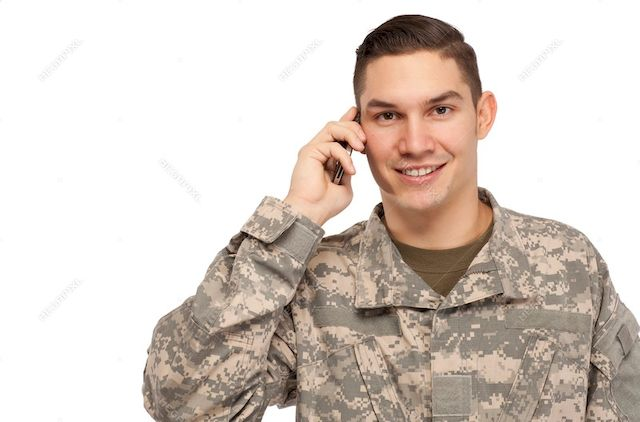phone: (331, 109, 365, 187)
talk: (294, 86, 476, 214)
